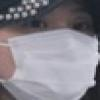mask: (4, 32, 100, 100)
